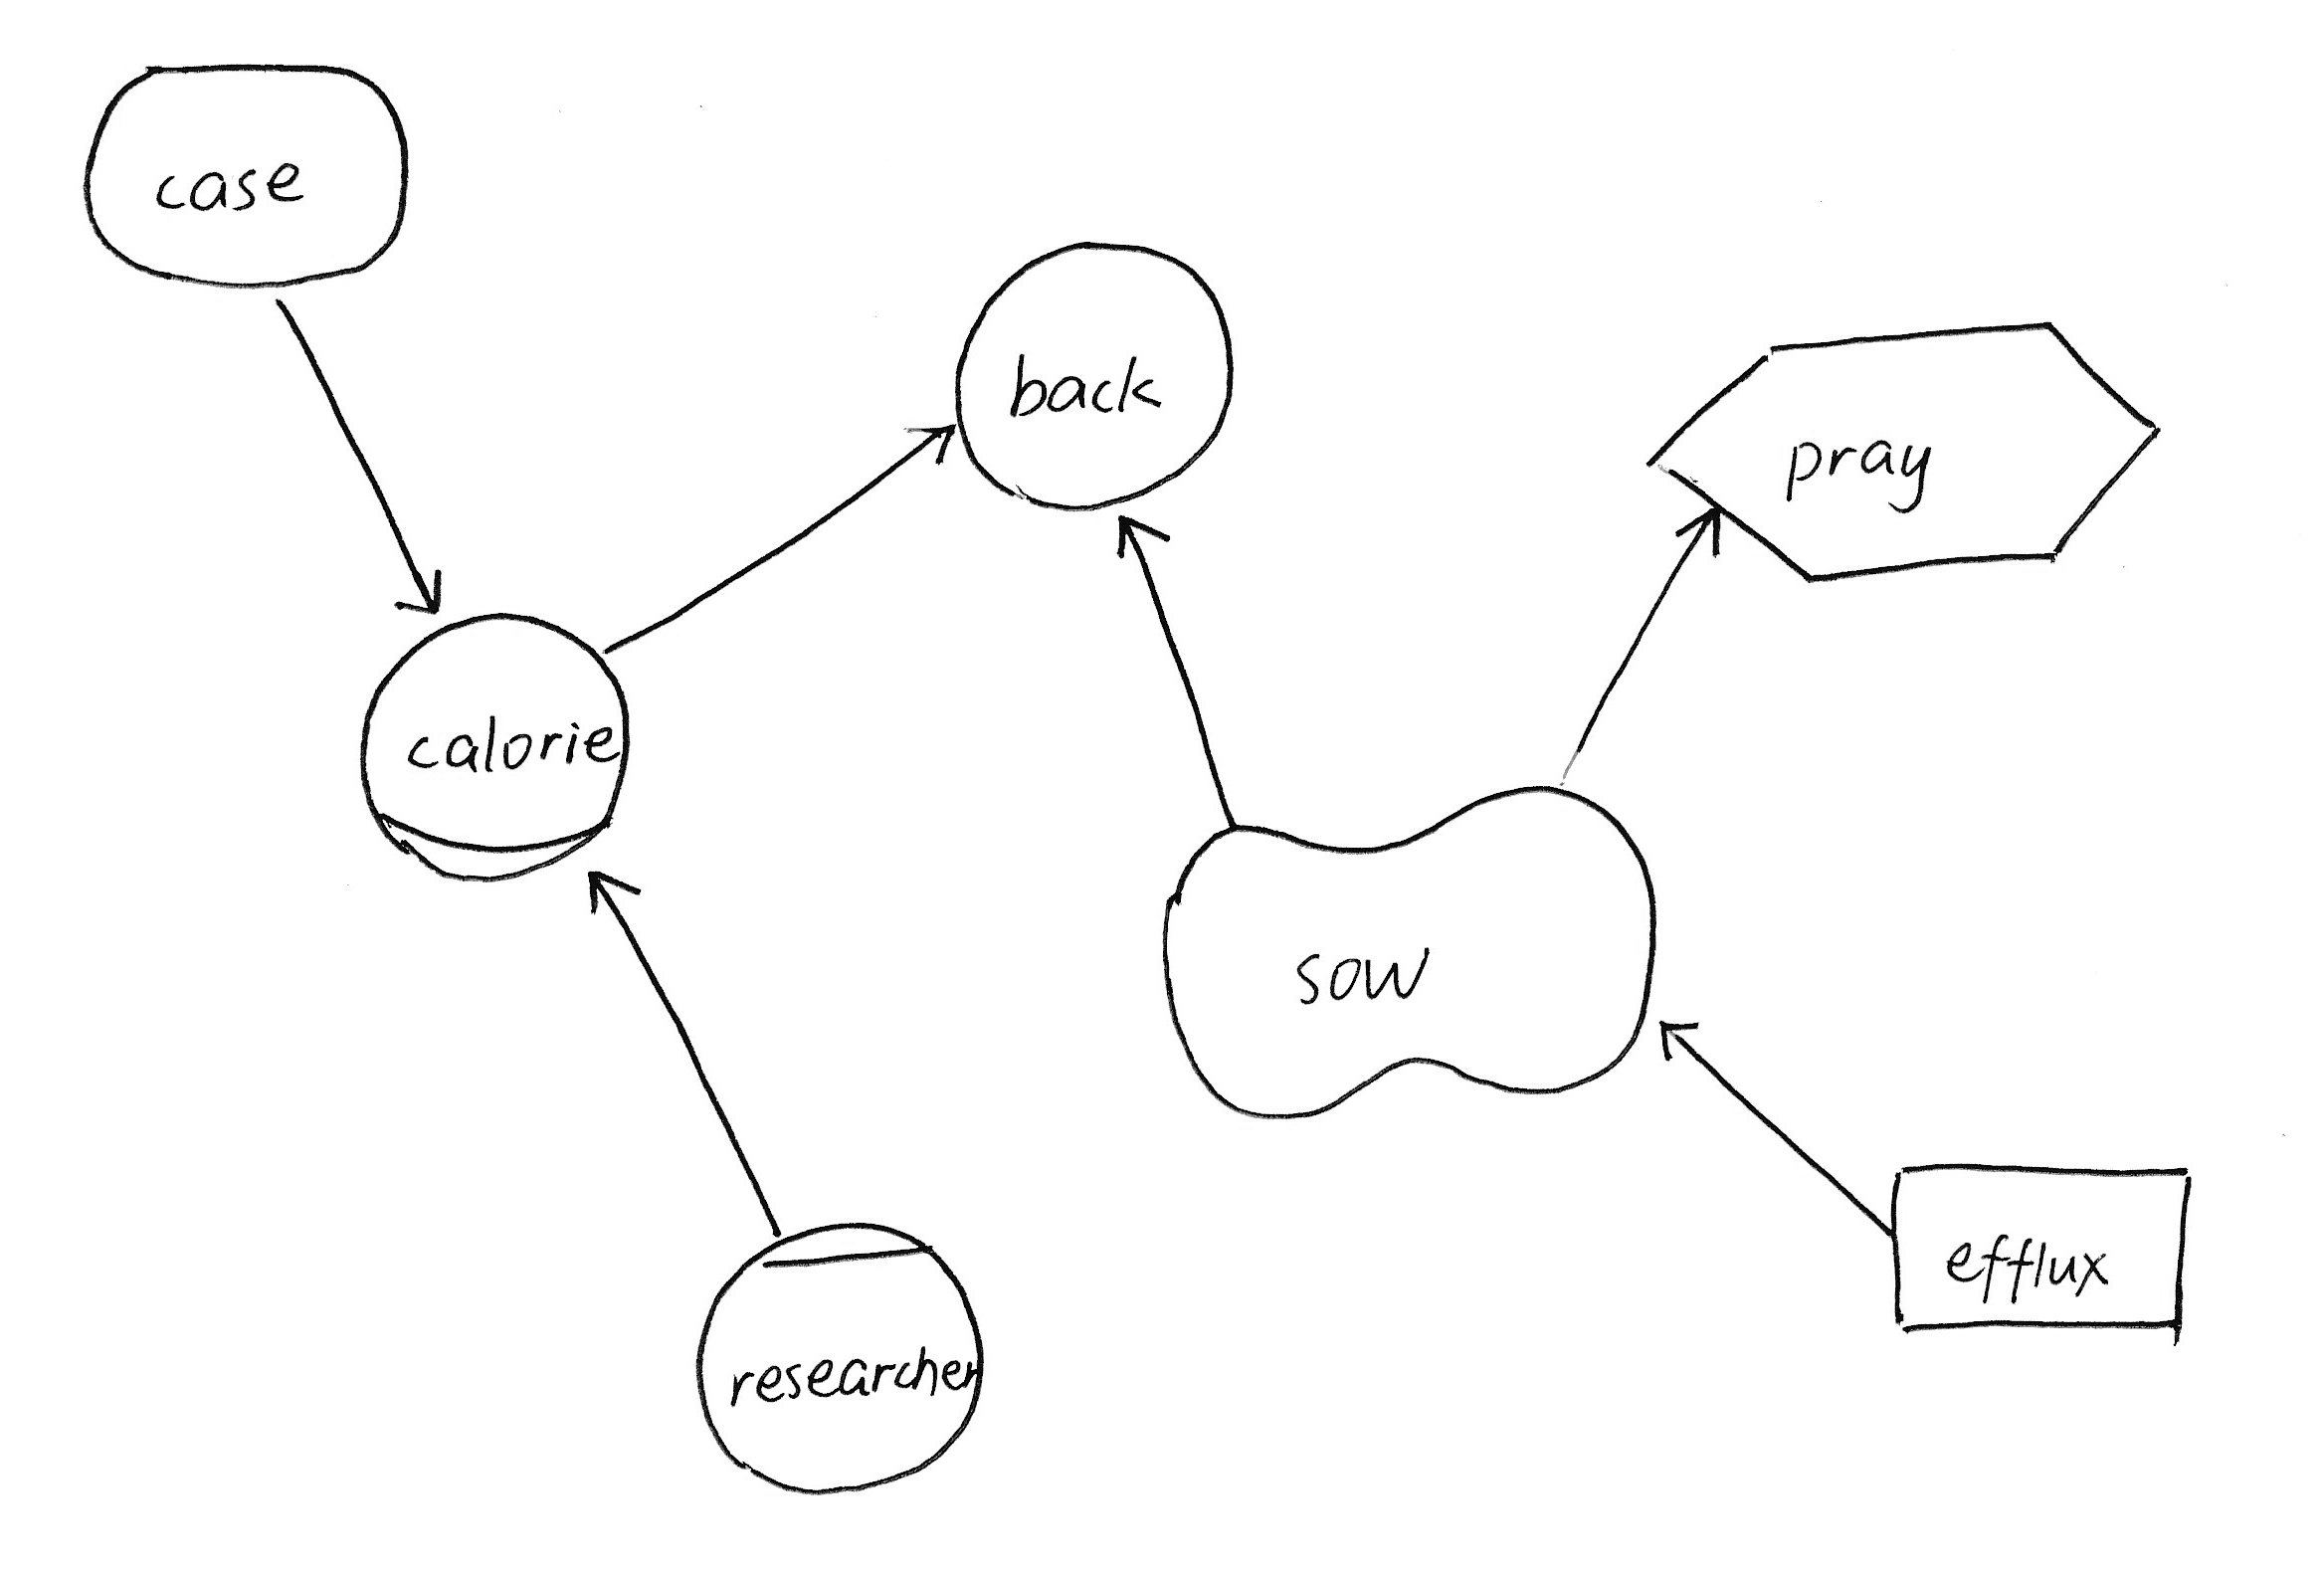actor: (940, 226, 1252, 522)
agent: (676, 1207, 1000, 1513)
arrow: (560, 851, 653, 923), (1660, 494, 1744, 571), (895, 403, 970, 487), (1100, 501, 1187, 567), (1643, 995, 1715, 1072), (389, 555, 454, 625)
goal: (70, 47, 429, 303)
quality: (1142, 765, 1678, 1136)
resource: (1874, 1150, 2212, 1354)
role: (347, 599, 646, 900)
task: (1630, 303, 2187, 601)
